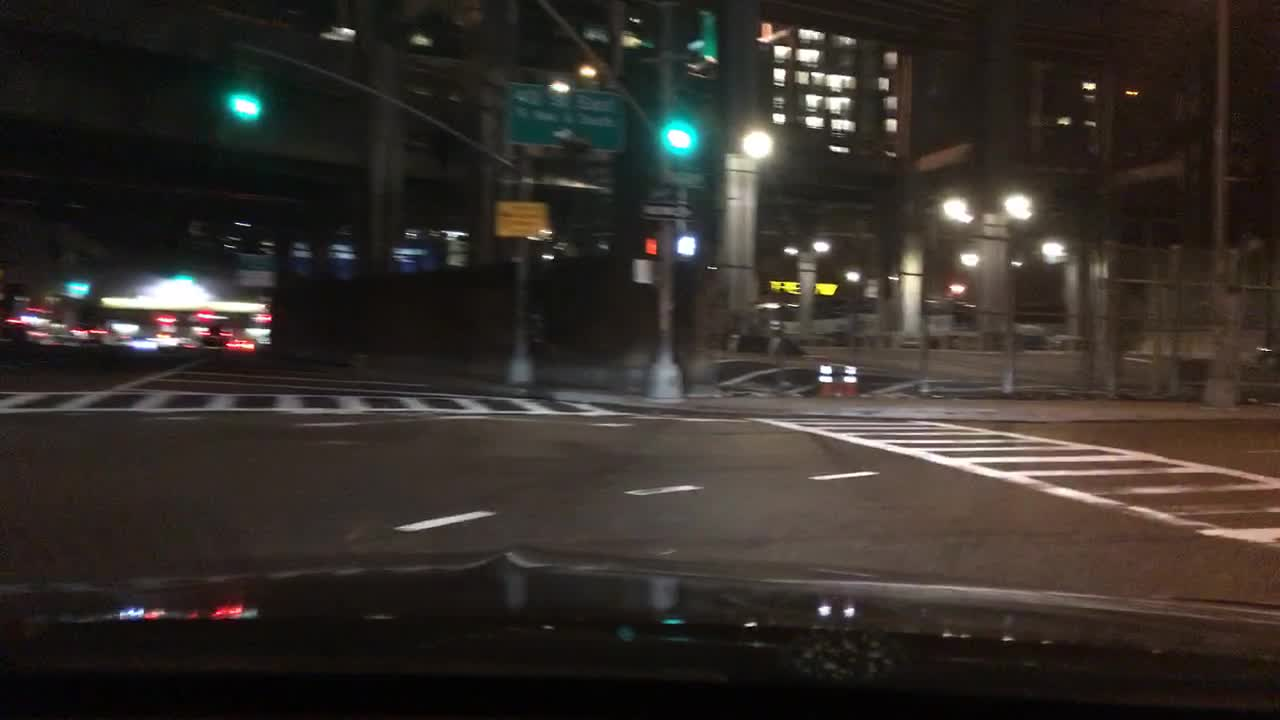car: (1234, 344, 1277, 405), (106, 331, 157, 353), (24, 325, 77, 346), (154, 331, 198, 350), (225, 334, 259, 353), (72, 326, 106, 343), (2, 316, 32, 335), (203, 328, 232, 346)
traffic light: (232, 92, 263, 122), (666, 127, 696, 153), (676, 232, 702, 260), (637, 235, 660, 257)
traffic sign: (507, 81, 626, 150), (491, 200, 552, 239), (665, 169, 706, 187), (643, 203, 691, 217)
